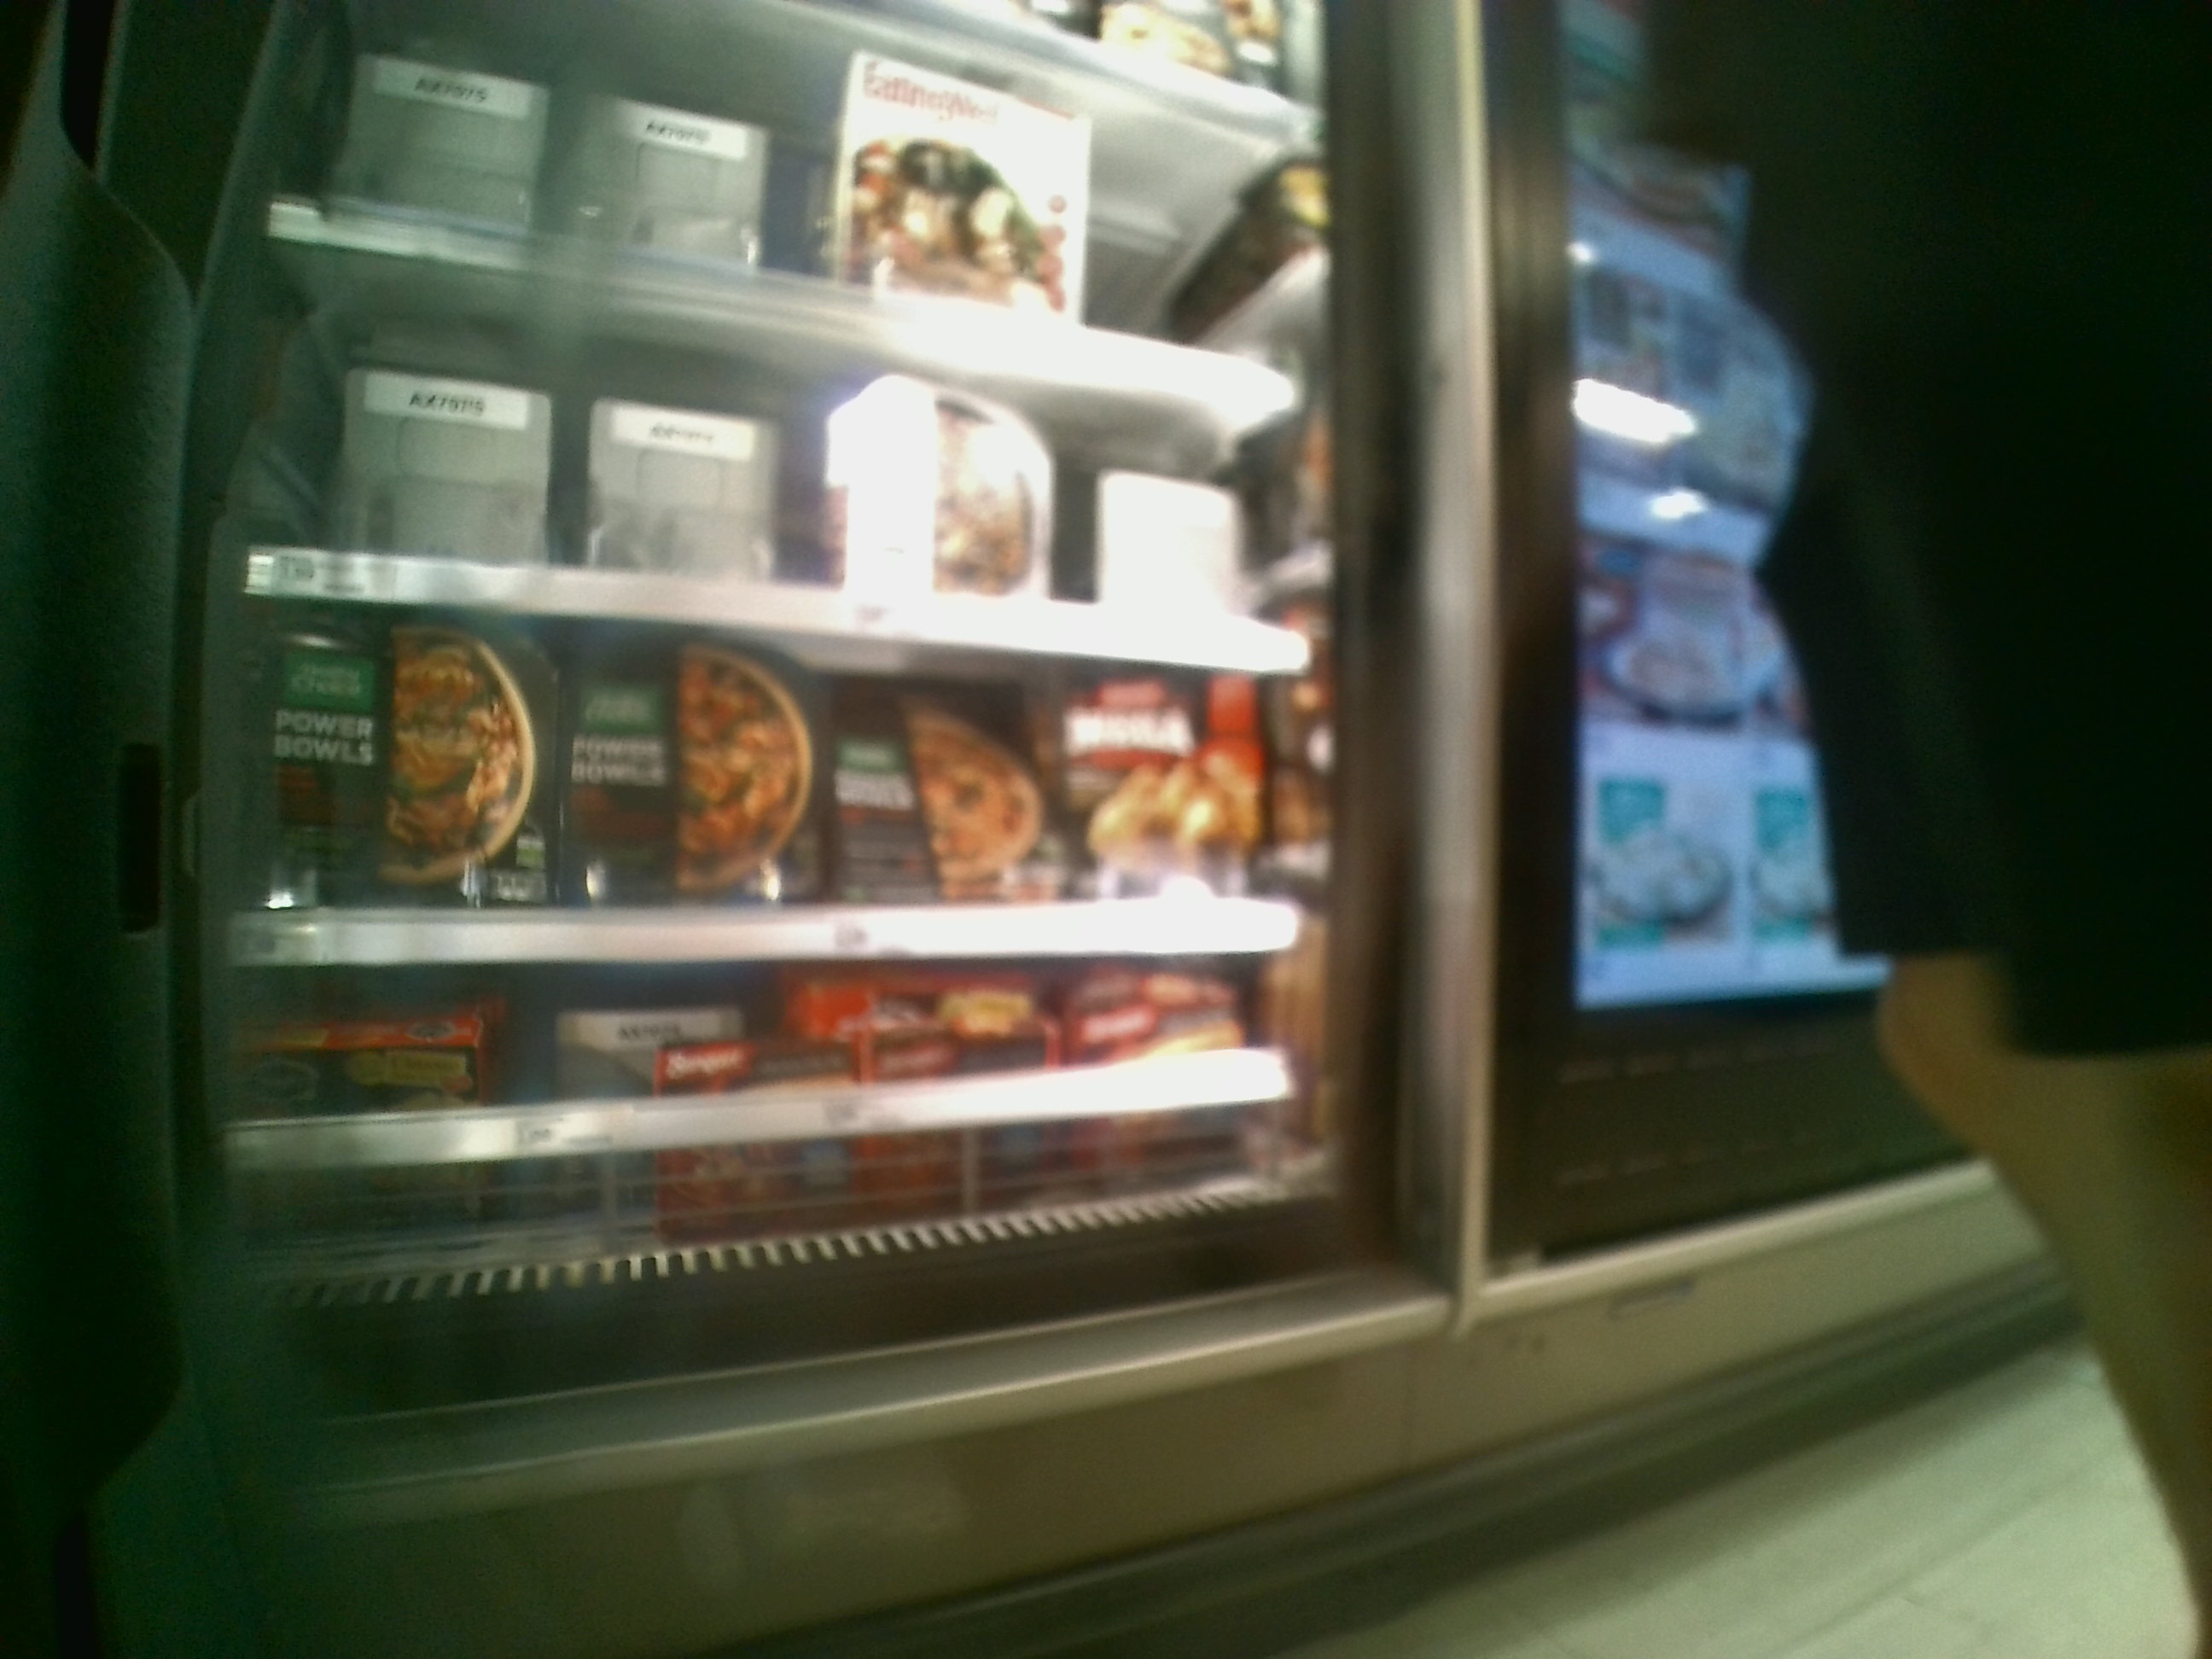Shelf: (244, 596, 1318, 953), (209, 958, 1332, 1223)
